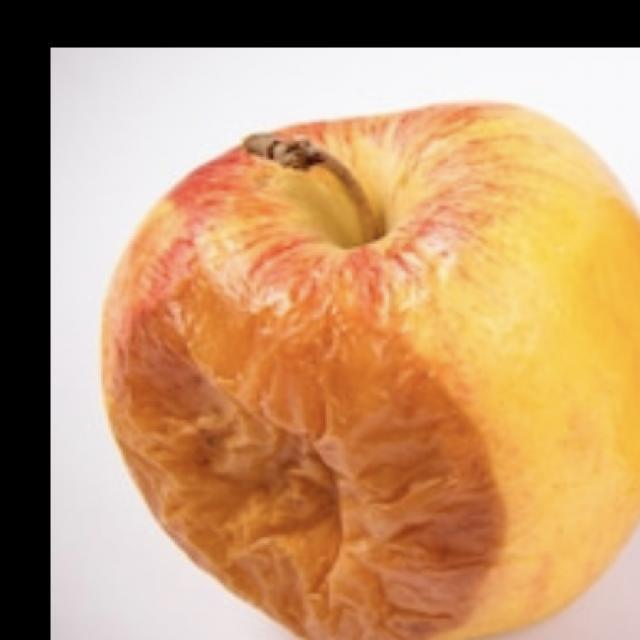Rotten: (103, 120, 640, 640)
